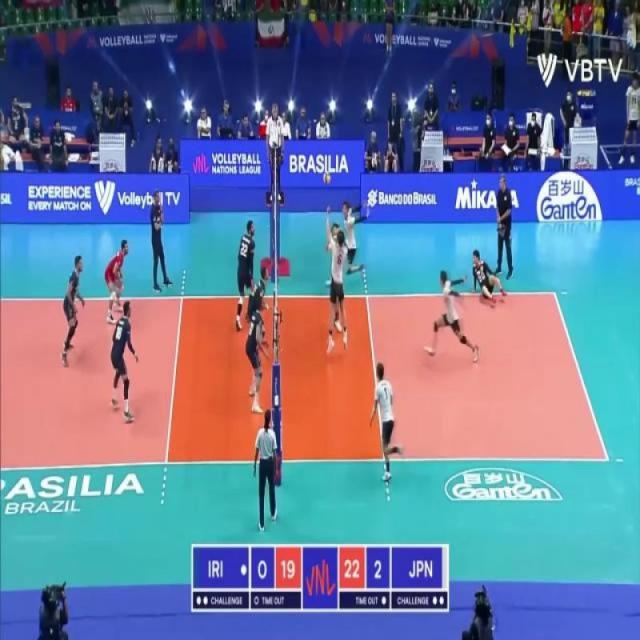volleyball: (321, 169, 332, 187), (577, 90, 592, 96)
